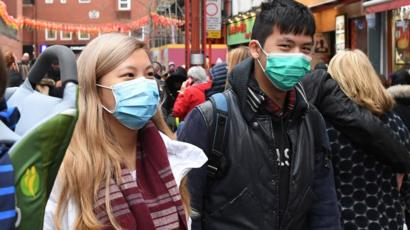surgical: (108, 73, 163, 130), (262, 48, 314, 91)
